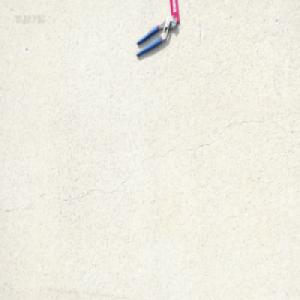Label: (169, 0, 180, 28)
Pliers: (135, 14, 177, 57)
